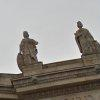Statue: (13, 23, 47, 75)
